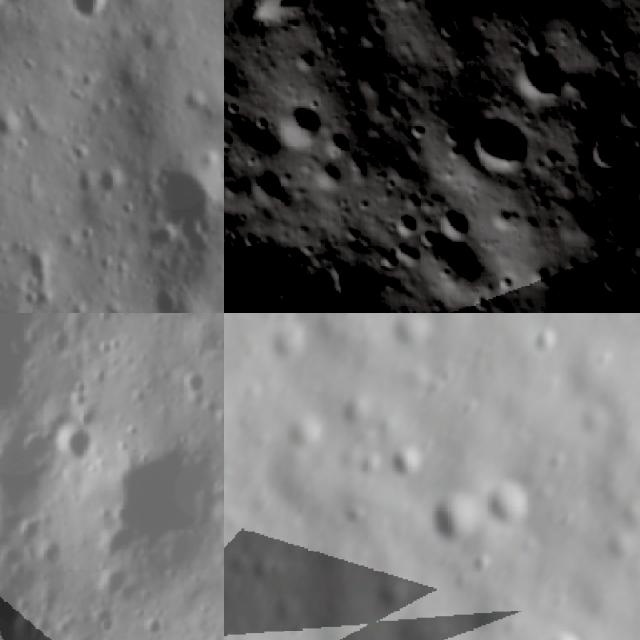crater: (100, 442, 220, 560), (406, 204, 515, 313), (450, 89, 551, 192), (370, 0, 524, 56), (503, 34, 583, 122), (147, 146, 221, 227), (254, 84, 334, 158), (234, 0, 340, 52), (543, 181, 610, 255), (235, 152, 303, 224), (418, 486, 488, 552), (570, 118, 634, 180), (479, 471, 534, 535), (310, 240, 366, 302), (514, 247, 570, 306), (585, 249, 640, 309), (428, 196, 484, 251), (385, 313, 438, 365), (590, 10, 640, 60), (0, 574, 37, 640), (309, 150, 357, 198), (389, 438, 431, 492), (56, 421, 99, 466), (382, 200, 425, 244), (368, 240, 407, 281), (608, 91, 640, 138), (322, 123, 360, 162), (621, 153, 640, 228), (570, 13, 604, 48), (621, 207, 640, 268), (34, 534, 68, 568), (63, 0, 112, 23), (591, 294, 640, 313), (46, 327, 76, 358), (181, 368, 212, 393), (540, 627, 597, 640), (224, 224, 238, 276), (224, 124, 242, 161)
